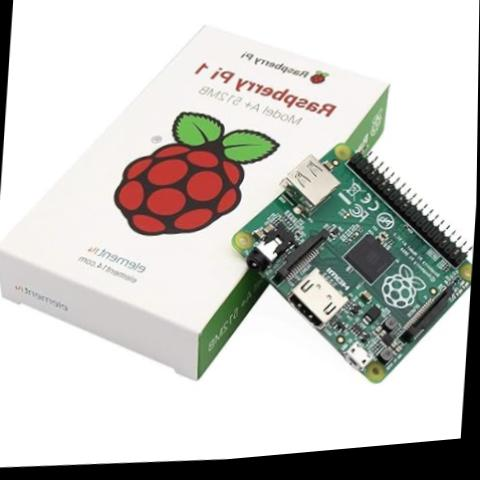Raspberry-Pi-1-Model-A-: (208, 126, 478, 420)
